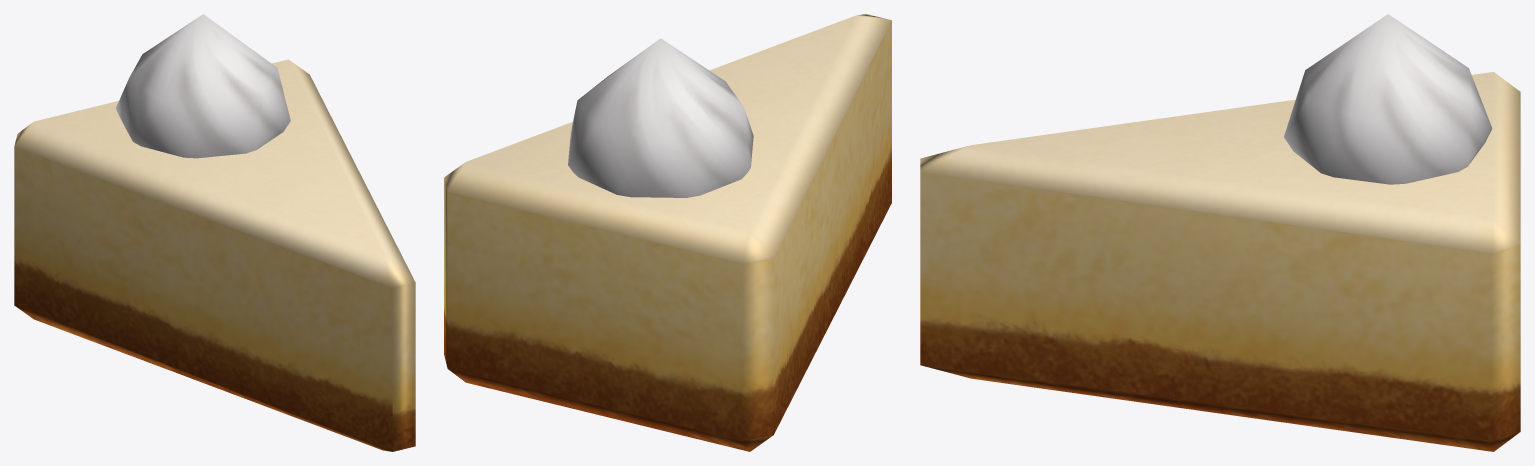
File: Plain_Cheesecake_Slice.fbx
The picture shows the model from 3 angles, left to right: view 1: azimuth 30°, elevation 25°; view 2: azimuth 150°, elevation 25°; view 3: azimuth 270°, elevation 25°; orthographic projection. The views are drawn at different scales.
Visible parts, largest first — view 1: Plain_Cheesecake_Slice; view 2: Plain_Cheesecake_Slice; view 3: Plain_Cheesecake_Slice.
Part boxes in pixels (<box>): Plain_Cheesecake_Slice: <box>14,14,415,451</box>; Plain_Cheesecake_Slice: <box>444,14,891,451</box>; Plain_Cheesecake_Slice: <box>920,14,1520,451</box>.
Bounding box in the file's own units: 26.02 × 25.89 × 38.81.
